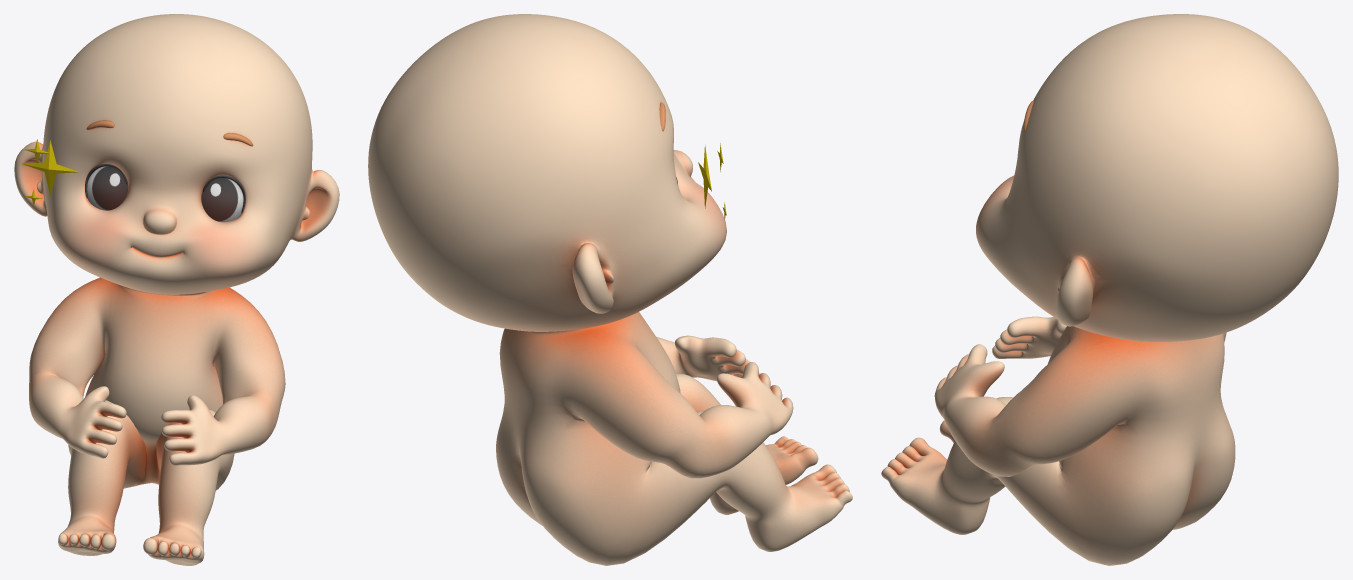
3 renders of one model, left to right at view 1: azimuth 30°, elevation 25°; view 2: azimuth 150°, elevation 25°; view 3: azimuth 270°, elevation 25°, orthographic. The views are drawn at different scales.
Parts seen in each view (by area): view 1: Roundcube.006, Plane; view 2: Roundcube.006; view 3: Roundcube.006.
Part boxes in pixels (x1=…): Roundcube.006: x1=14, y1=14, x2=339, y2=565; Plane: x1=21, y1=140, x2=79, y2=195; Roundcube.006: x1=368, y1=14, x2=852, y2=565; Roundcube.006: x1=881, y1=14, x2=1338, y2=565.
Size of the model in its own units: 2.97 by 4.08 by 3.08.
2 materials, 1 textured.
